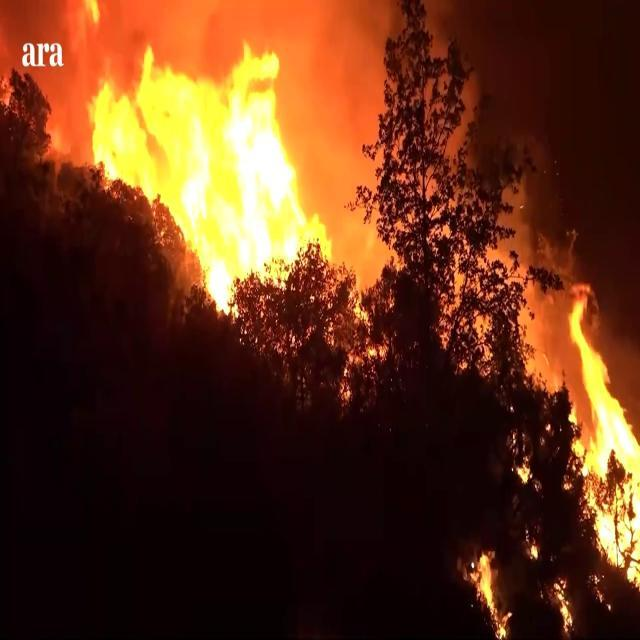Fire: (81, 3, 322, 313), (558, 279, 640, 605), (465, 544, 513, 636), (550, 573, 574, 635)
